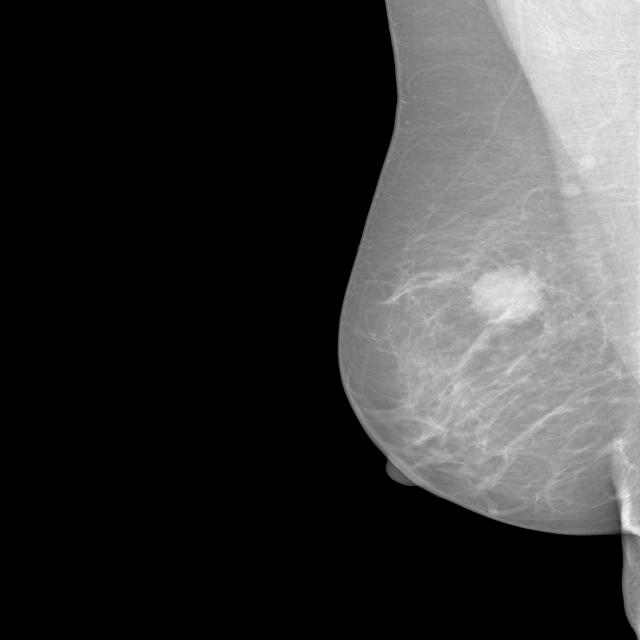Mass_1: (449, 249, 571, 343)
